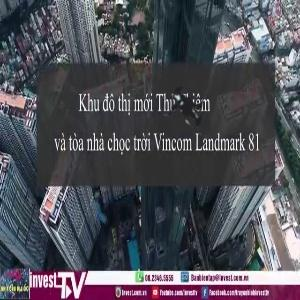drone: (111, 31, 258, 178)
